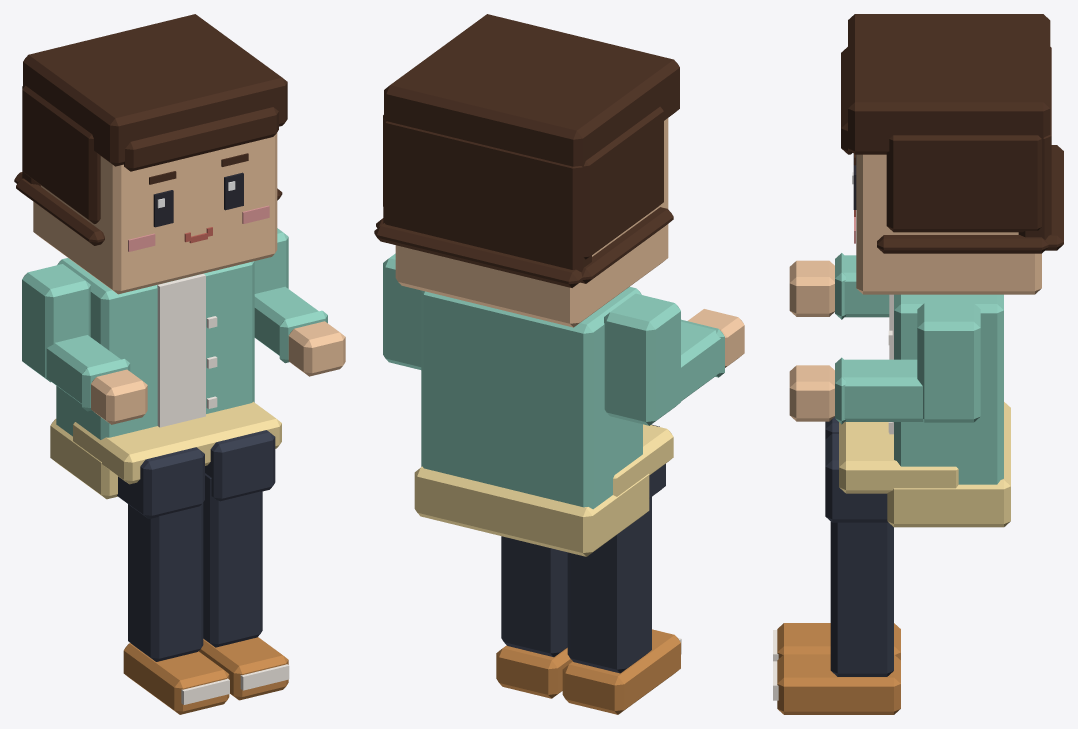
Rendered from CatCafe_NPC_Customer_A_Sit.glb.
3 views of the same model, side by side, from view 1: azimuth 30°, elevation 25°; view 2: azimuth 150°, elevation 25°; view 3: azimuth 270°, elevation 25° (orthographic). The views are drawn at different scales.
Visible parts, largest first — view 1: CatCafe_NPC_Customer_A_Sit; view 2: CatCafe_NPC_Customer_A_Sit; view 3: CatCafe_NPC_Customer_A_Sit.
Part boxes in pixels (box(x1,y1,x2,y2)): CatCafe_NPC_Customer_A_Sit: box(14, 14, 345, 714); CatCafe_NPC_Customer_A_Sit: box(374, 14, 744, 714); CatCafe_NPC_Customer_A_Sit: box(773, 14, 1063, 714).
Size of the model in its own units: 2.24 by 5.05 by 2.11.
Materials: 1 (1 with a texture image).
